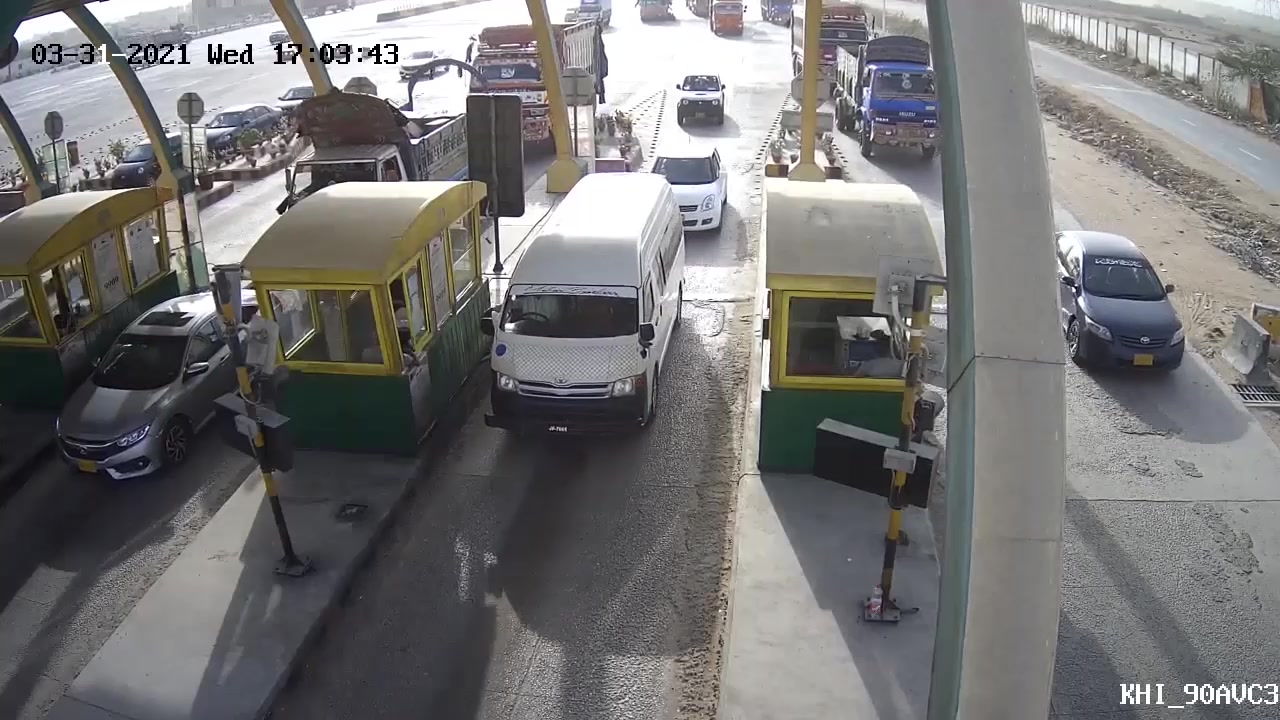F3: (457, 174, 694, 452)
